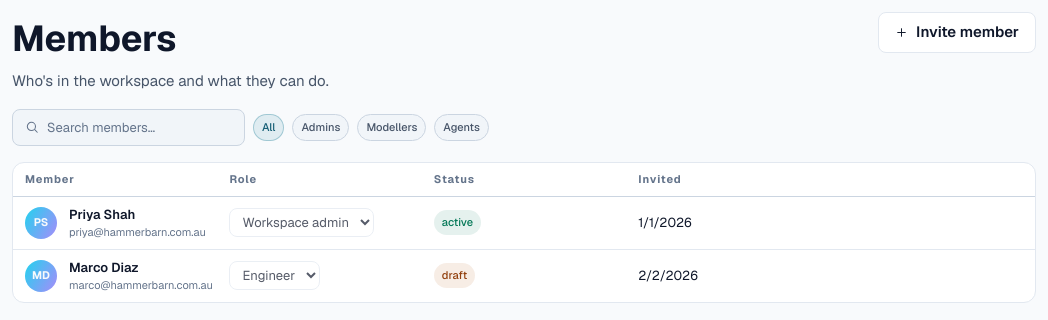
it: MembersPanel table (mock #sub-set-members) › filters the table by the search box
Check: the text "Priya Shah" is shown, box [69, 206, 135, 222]
Type "marco" into the field labelled "Search members…". click: point(140, 127)
box: [47, 118, 232, 137]
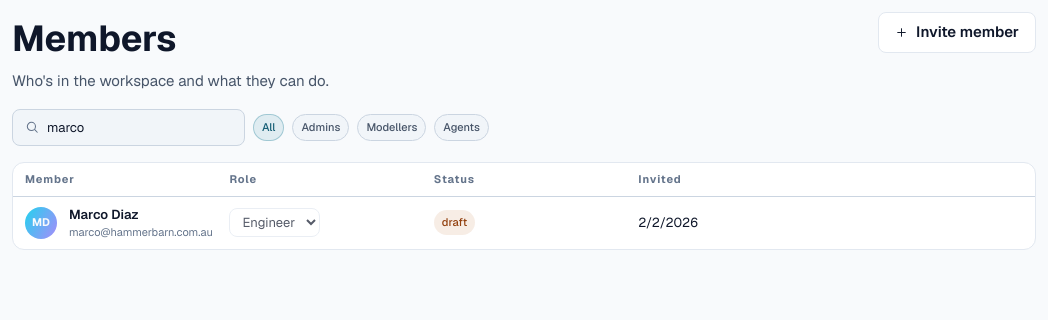
Check: the text "Marco Diaz" is shown, box [69, 206, 139, 222]
Check: the text "Priya Shah" is gone
